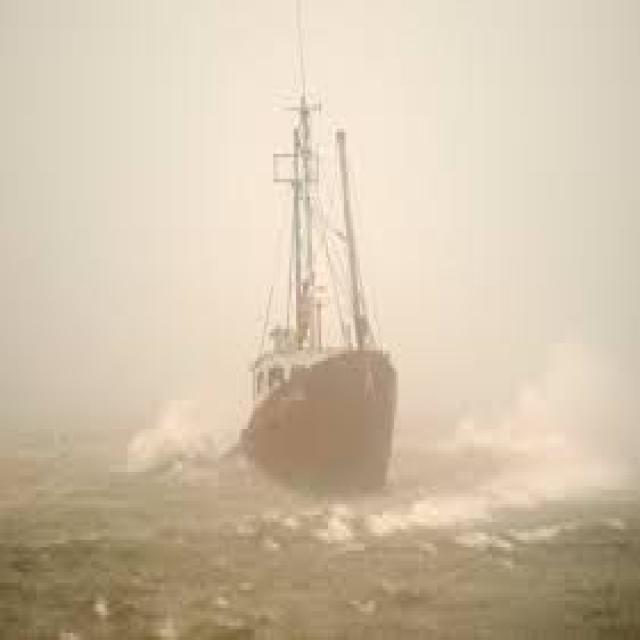fishing boat: (241, 95, 402, 506)
